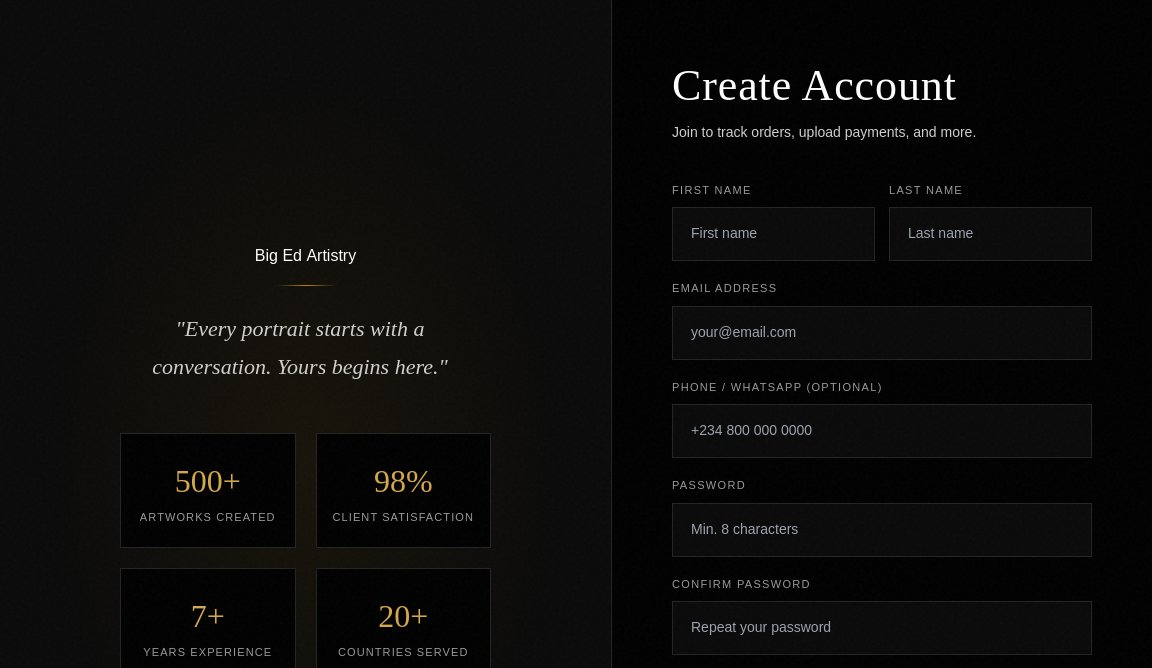
it: RegisterPage › shows error when passwords do not match
The image size is (1152, 668).
Type "John" into the field with placeholder "First name". click: point(774, 234)
box: [672,207,875,261]
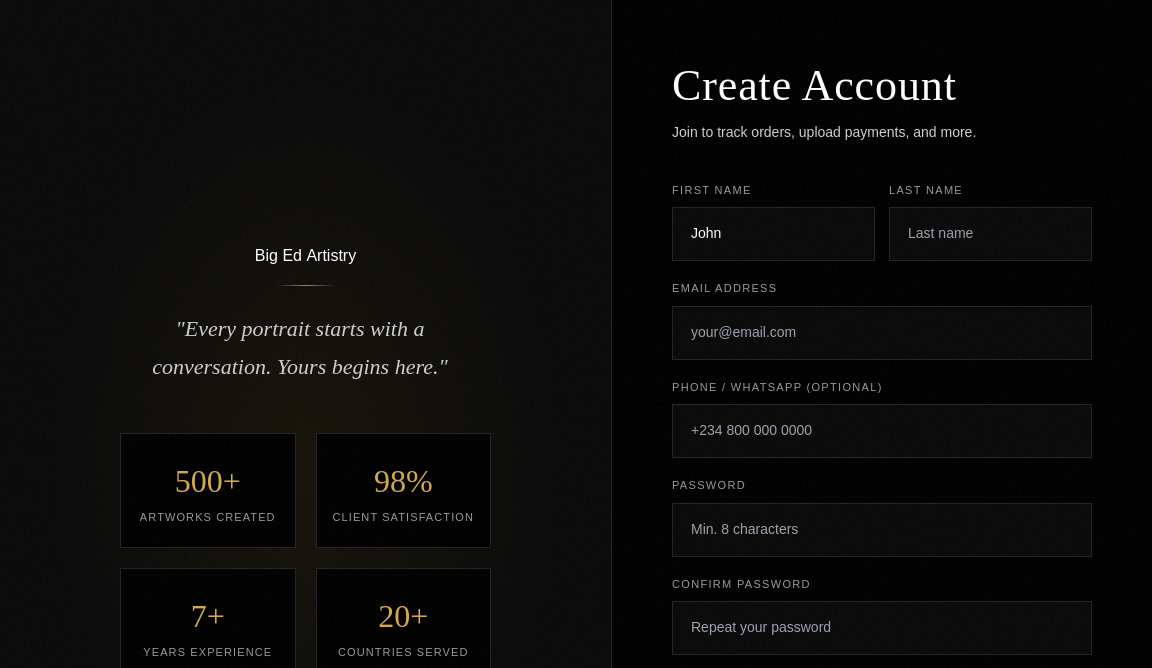
Type "Doe" into the field with placeholder "Last name". click: point(990, 234)
box: [889,207,1092,261]
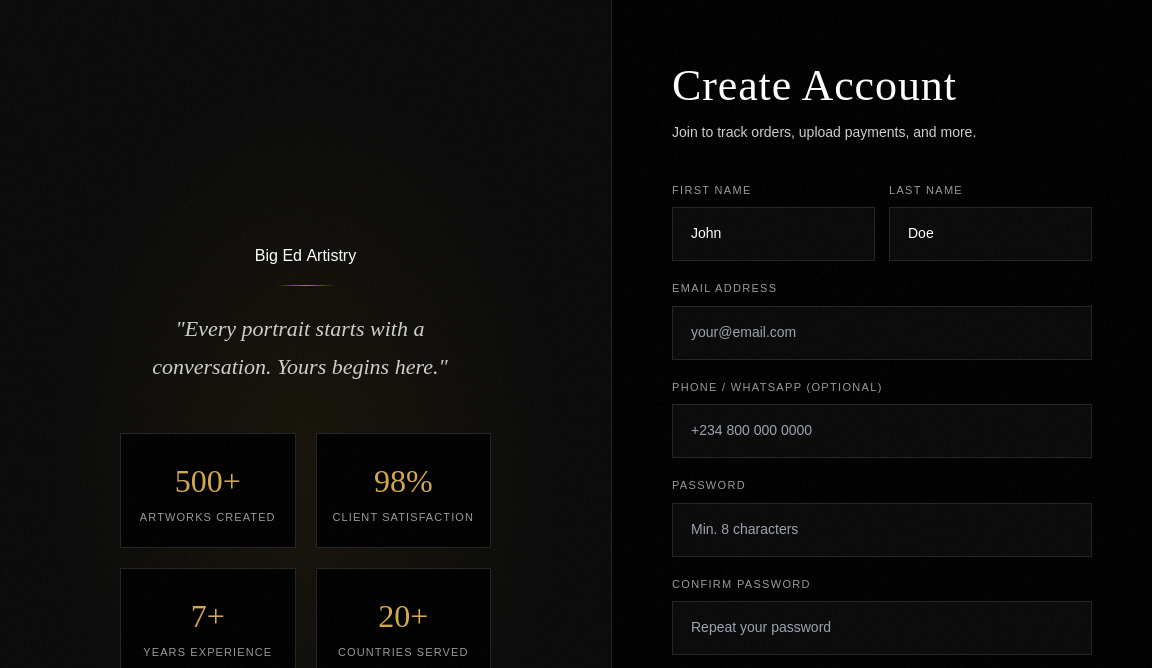
Type "john@test.com" into the field with placeholder "your@email.com". click: point(882, 333)
box: [672,306,1092,360]
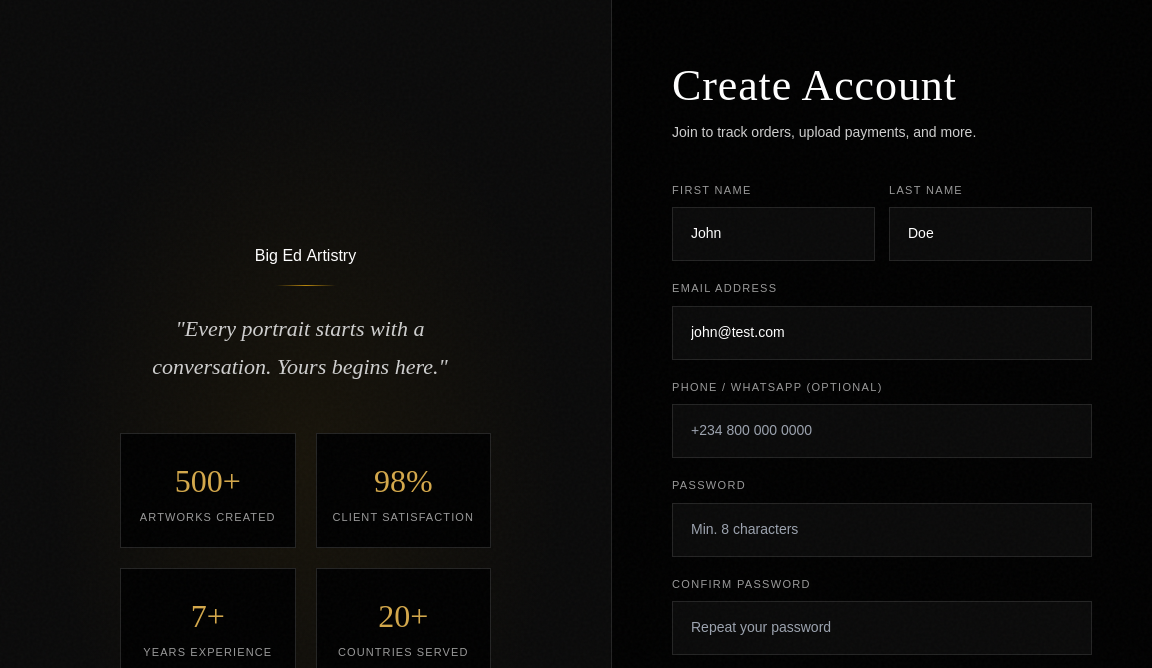
Type "password1" into the password field with placeholder "Min. 8 characters". click: point(882, 530)
box: [672,503,1092,556]
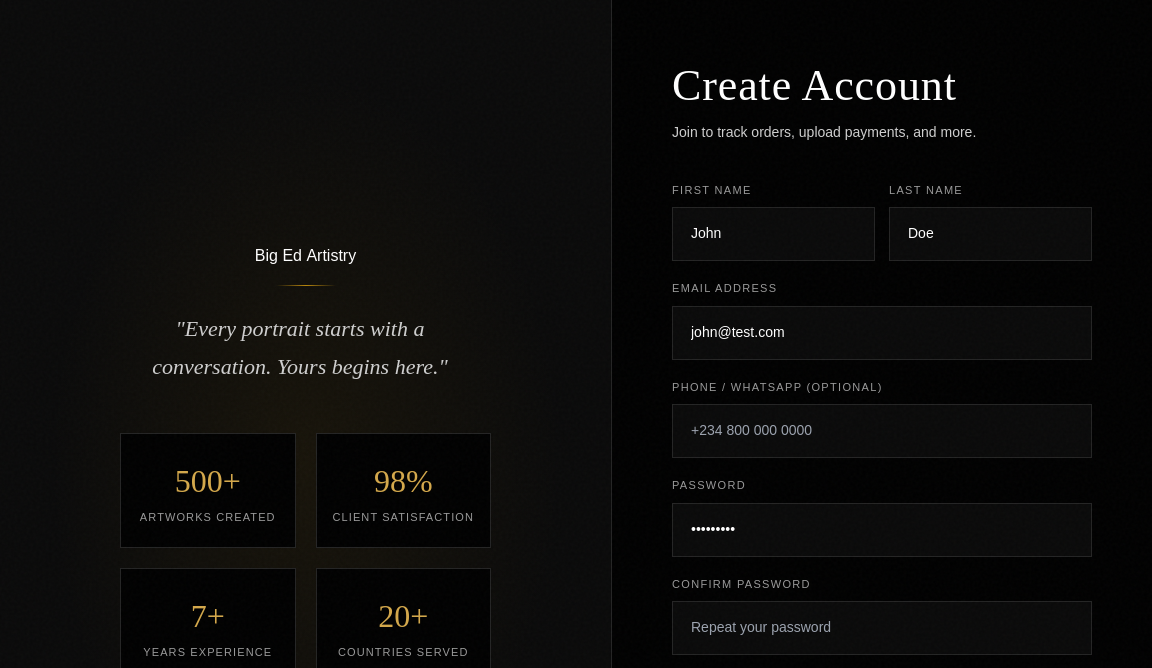
Type "different1" into the password field with placeholder "Repeat your password". click: point(882, 628)
box: [672,601,1092,655]
(page scrolled)
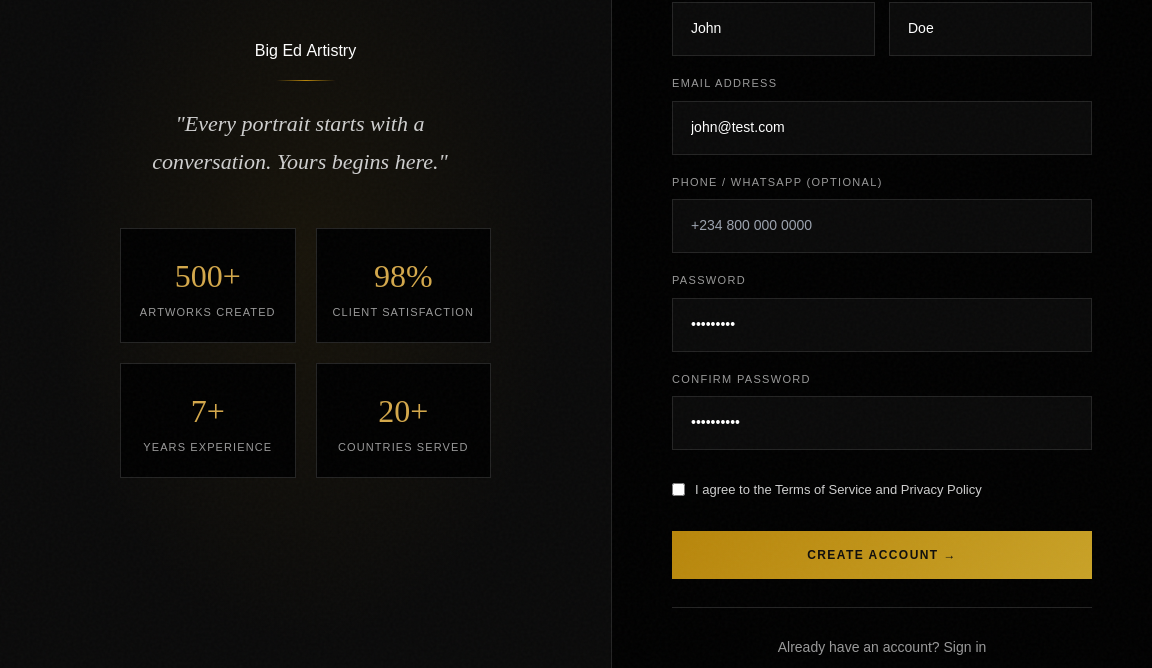
Click the button "Create Account →". click: point(882, 555)
box: [672,531,1092,579]
(page scrolled)
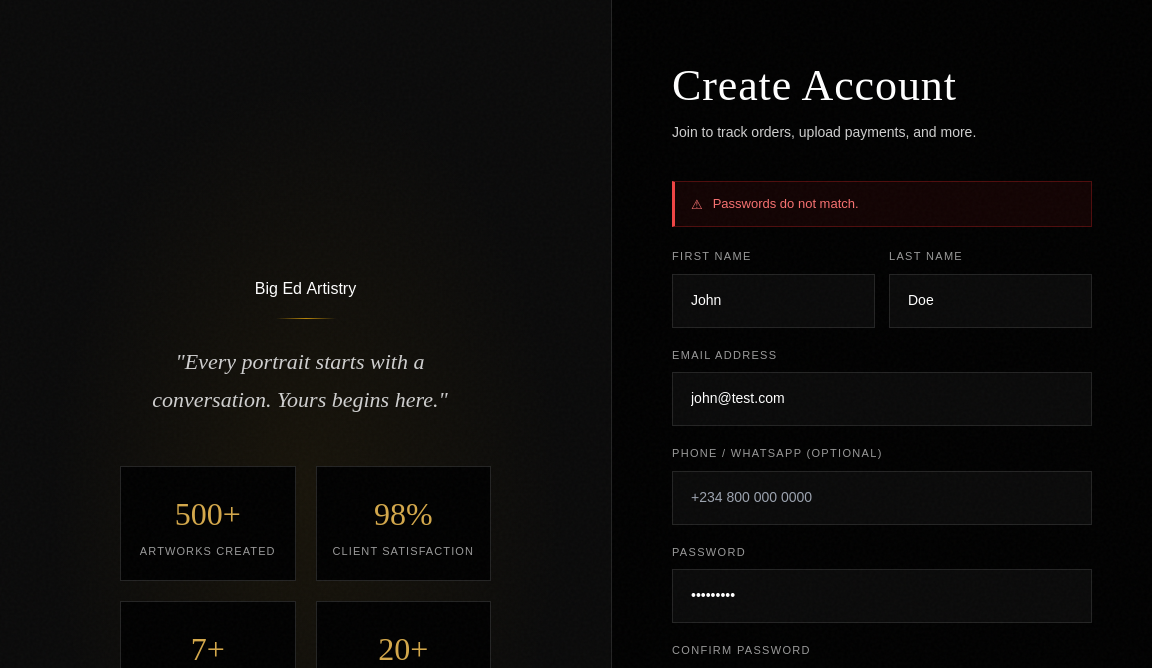
Check: the text "Passwords do not match." is shown, box [713,194,859,213]
